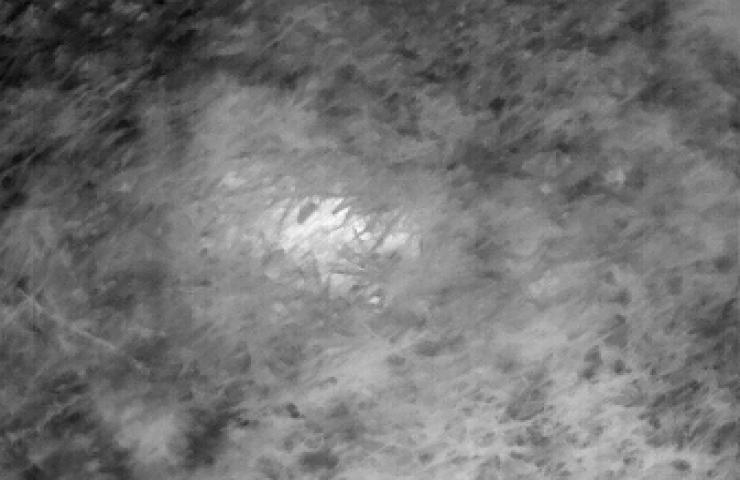landmines: (224, 193, 422, 303)
